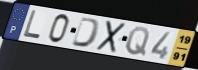0: (48, 13, 71, 44)
4: (149, 31, 173, 60)
D: (69, 16, 102, 49)
L: (22, 9, 42, 40)
Q: (124, 26, 151, 58)
X: (94, 20, 128, 55)
